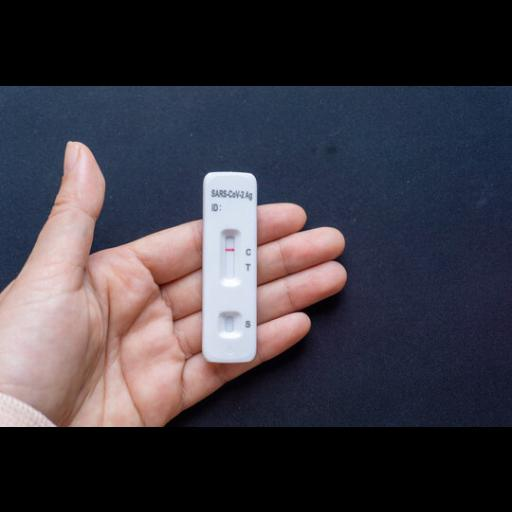Neg: (204, 170, 254, 360)
